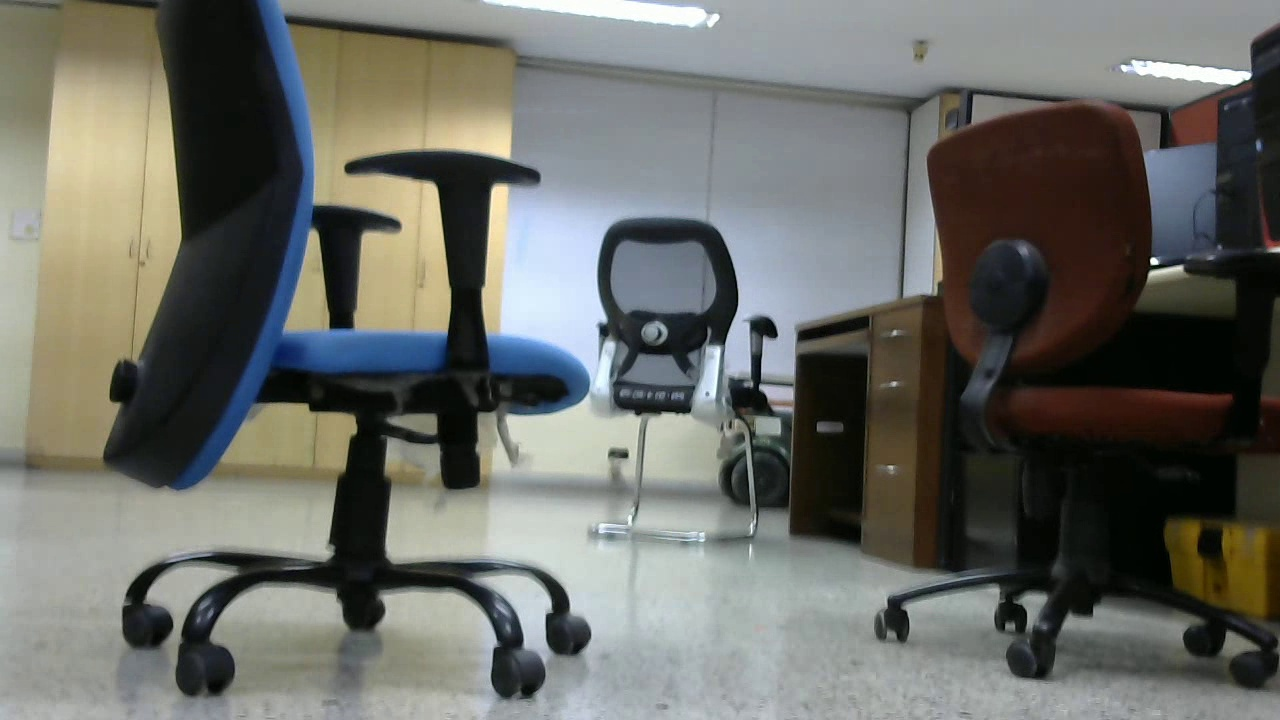chair: (86, 5, 604, 698), (886, 2, 1280, 684), (585, 210, 762, 551)
